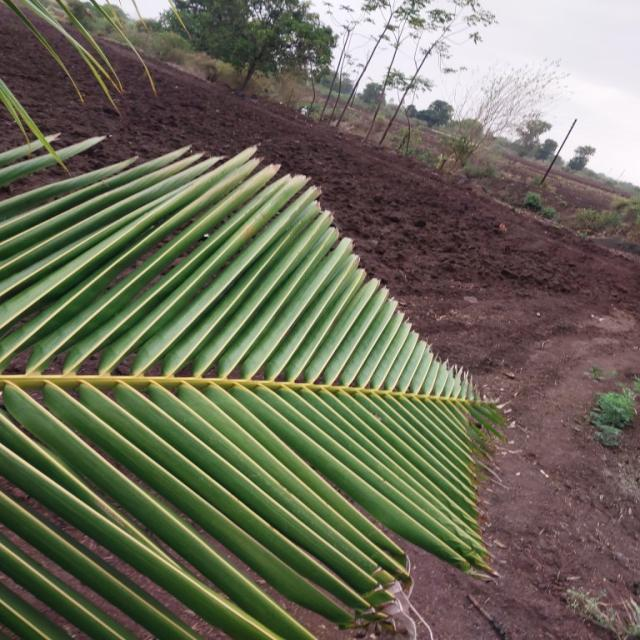leaf rot: (33, 125, 526, 639)
